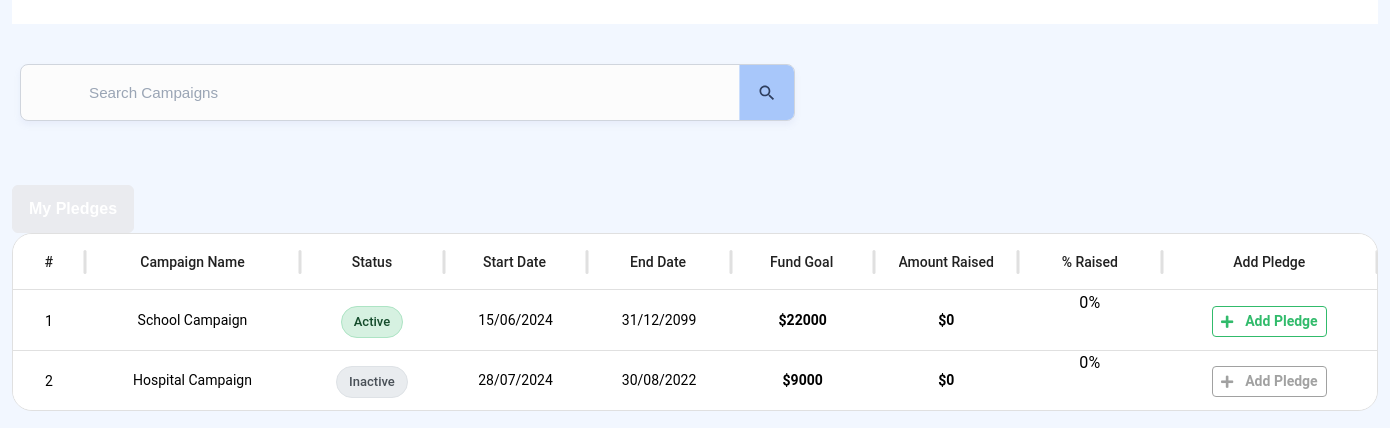
Scenario: Testing User Campaigns Screen › Search the Campaigns list by name
Type "Hospital" into the search field with test id "searchByInput" at (372, 92), box [41, 84, 703, 101]
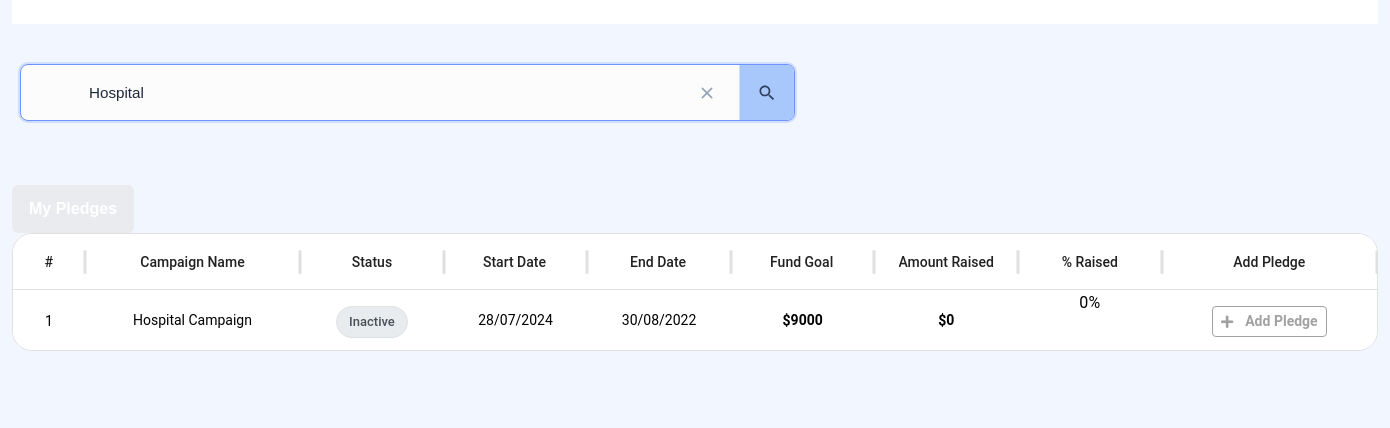
Expected: the text "Hospital Campaign" is shown, [133, 312, 252, 328]
Result: the text "School Campaign" is gone
